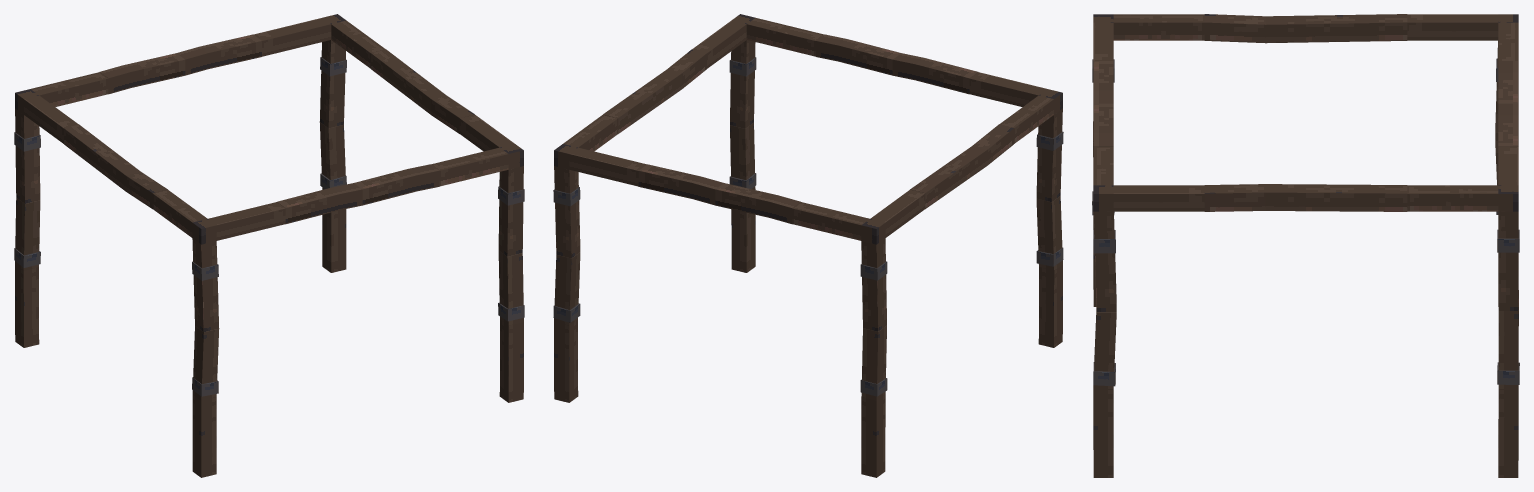
File: wood_support_square.glb
The picture shows the model from 3 angles, left to right: view 1: azimuth 30°, elevation 25°; view 2: azimuth 150°, elevation 25°; view 3: azimuth 270°, elevation 25°; orthographic projection. The views are drawn at different scales.
Parts seen in each view (by area): view 1: wood_support_square; view 2: wood_support_square; view 3: wood_support_square.
Boxes of the visible parts, box(x1,y1,x2,y2) form: wood_support_square: box(14, 14, 524, 477); wood_support_square: box(553, 14, 1063, 477); wood_support_square: box(1092, 14, 1519, 477).
Bounding box in the file's own units: 5.28 × 3.89 × 5.28.
Materials: 1 (1 with a texture image).
